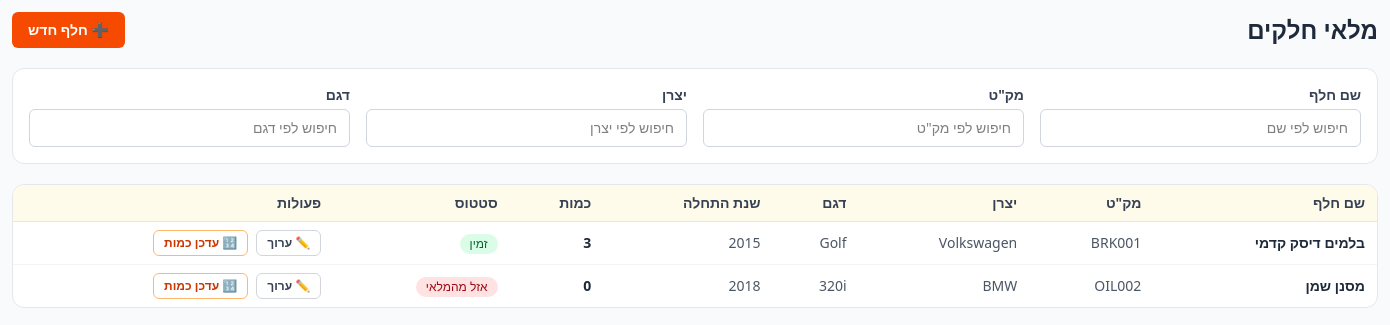
Scenario: PartsPage — server-side search / filter › filters by model using a backend query
The width and height of the screenshot is (1390, 325).
Expected: the table is shown, left=13, top=185, right=1377, bottom=307
In the field labelled "דגם": [190, 128] box left=29, top=109, right=350, bottom=147, type "Golf"
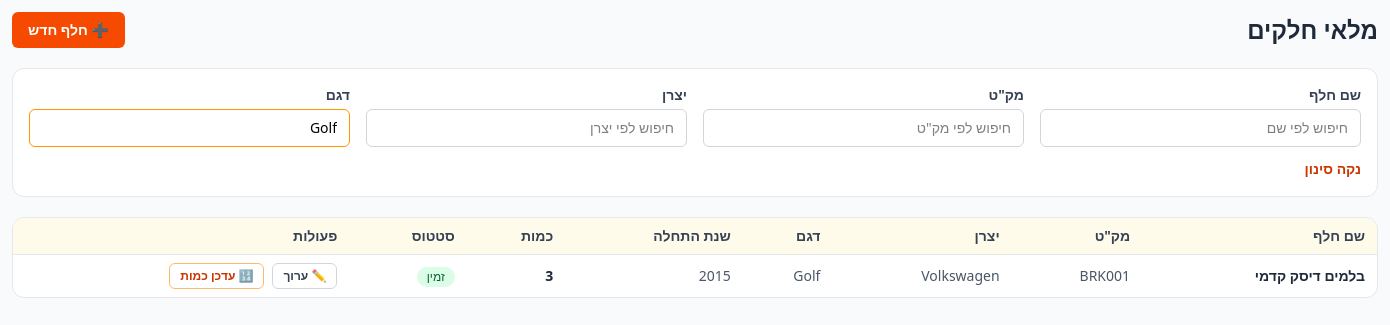
Expected: the text "בלמים דיסק קדמי" is shown, left=1142, top=254, right=1377, bottom=297
Expected: the text "מסנן שמן" is gone
